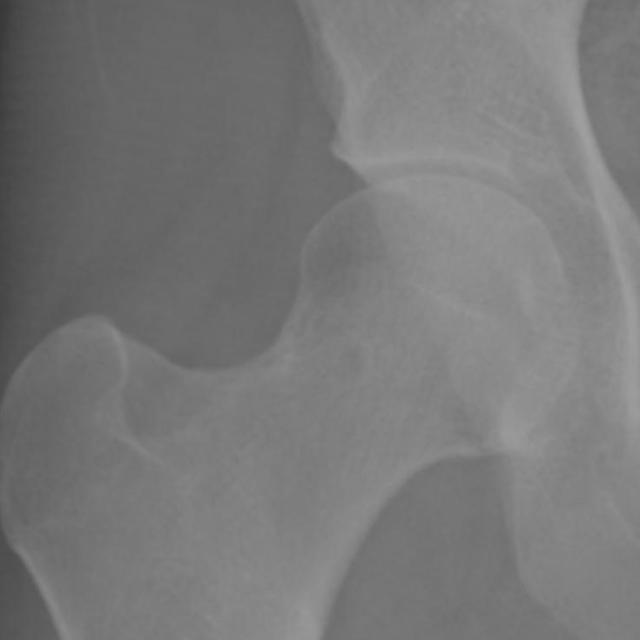Fitted_femural_head: (299, 173, 432, 299)
